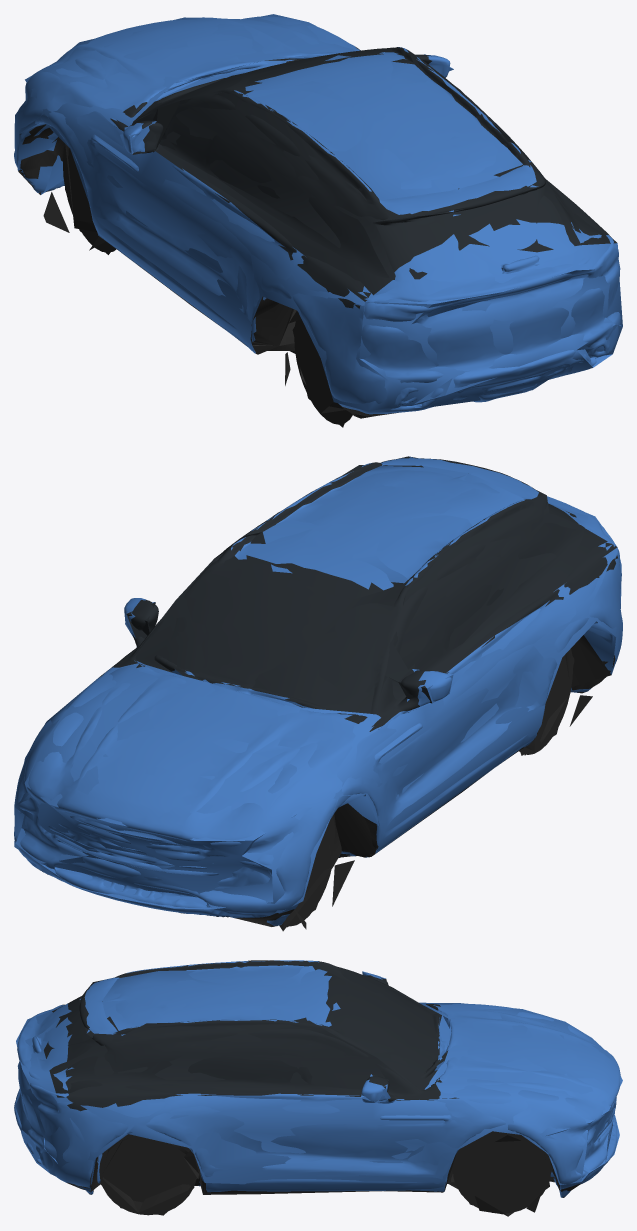
The model's file is aston-martin-dbx-707.glb.
The picture shows the model from 3 angles, top to bottom: view 1: azimuth 30°, elevation 25°; view 2: azimuth 150°, elevation 25°; view 3: azimuth 270°, elevation 25°; orthographic projection. The views are drawn at different scales.
Parts seen in each view (by area): view 1: body, far; view 2: body, far; view 3: body, far.
Part boxes in pixels (box(x1,y1,x2,y2)): body: box(14, 16, 620, 424); far: box(14, 14, 622, 427); body: box(14, 458, 622, 931); far: box(14, 456, 621, 930); body: box(14, 960, 620, 1215); far: box(14, 960, 622, 1216).
Bounding box in the file's own units: 2.36 × 1.76 × 5.1.
